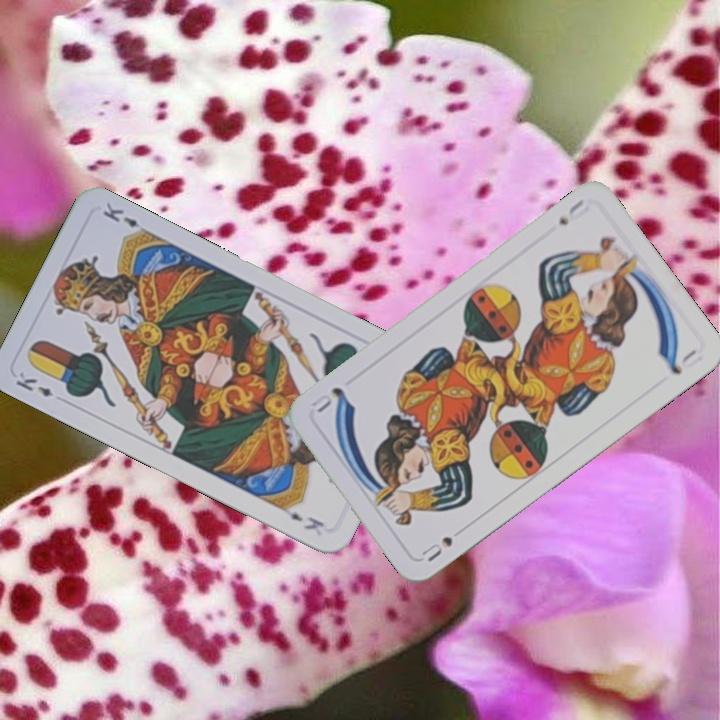EK: (11, 367, 56, 400)
SU: (417, 522, 469, 565), (554, 195, 592, 228)
